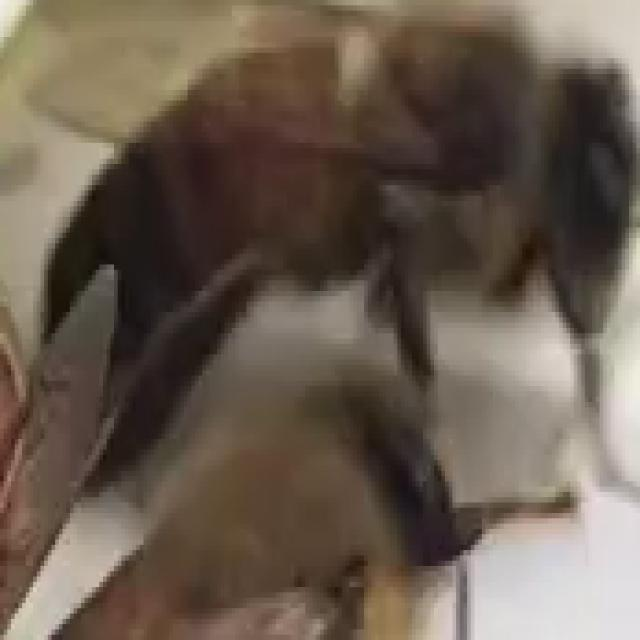honeybee: (12, 24, 637, 483)
